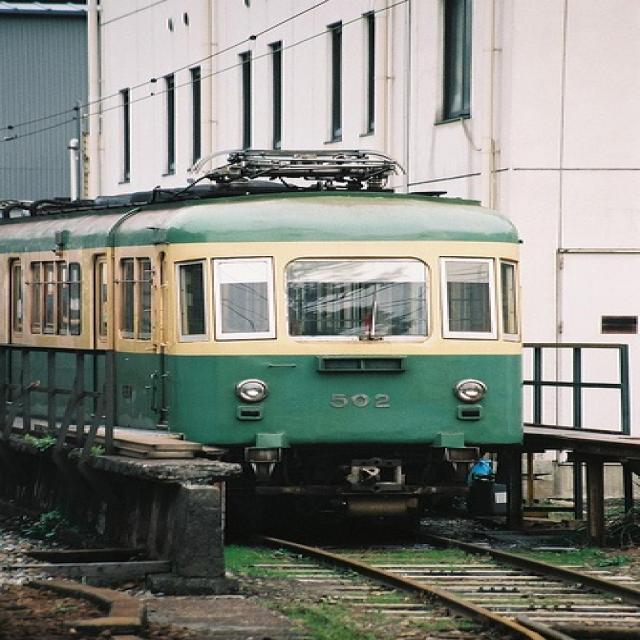train: (21, 145, 523, 526)
